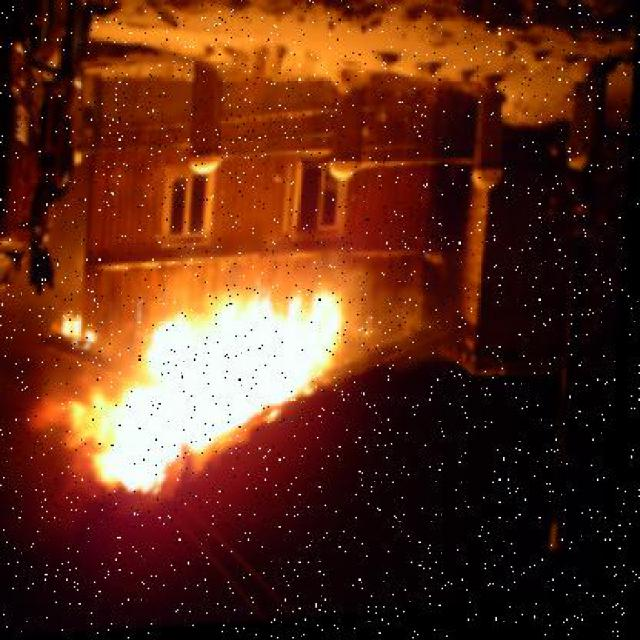fire: (42, 293, 360, 549)
